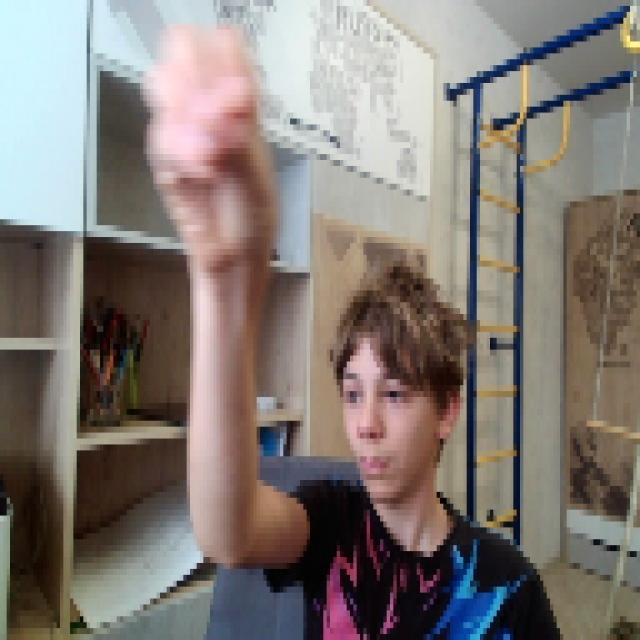left_click: (136, 12, 276, 267)
